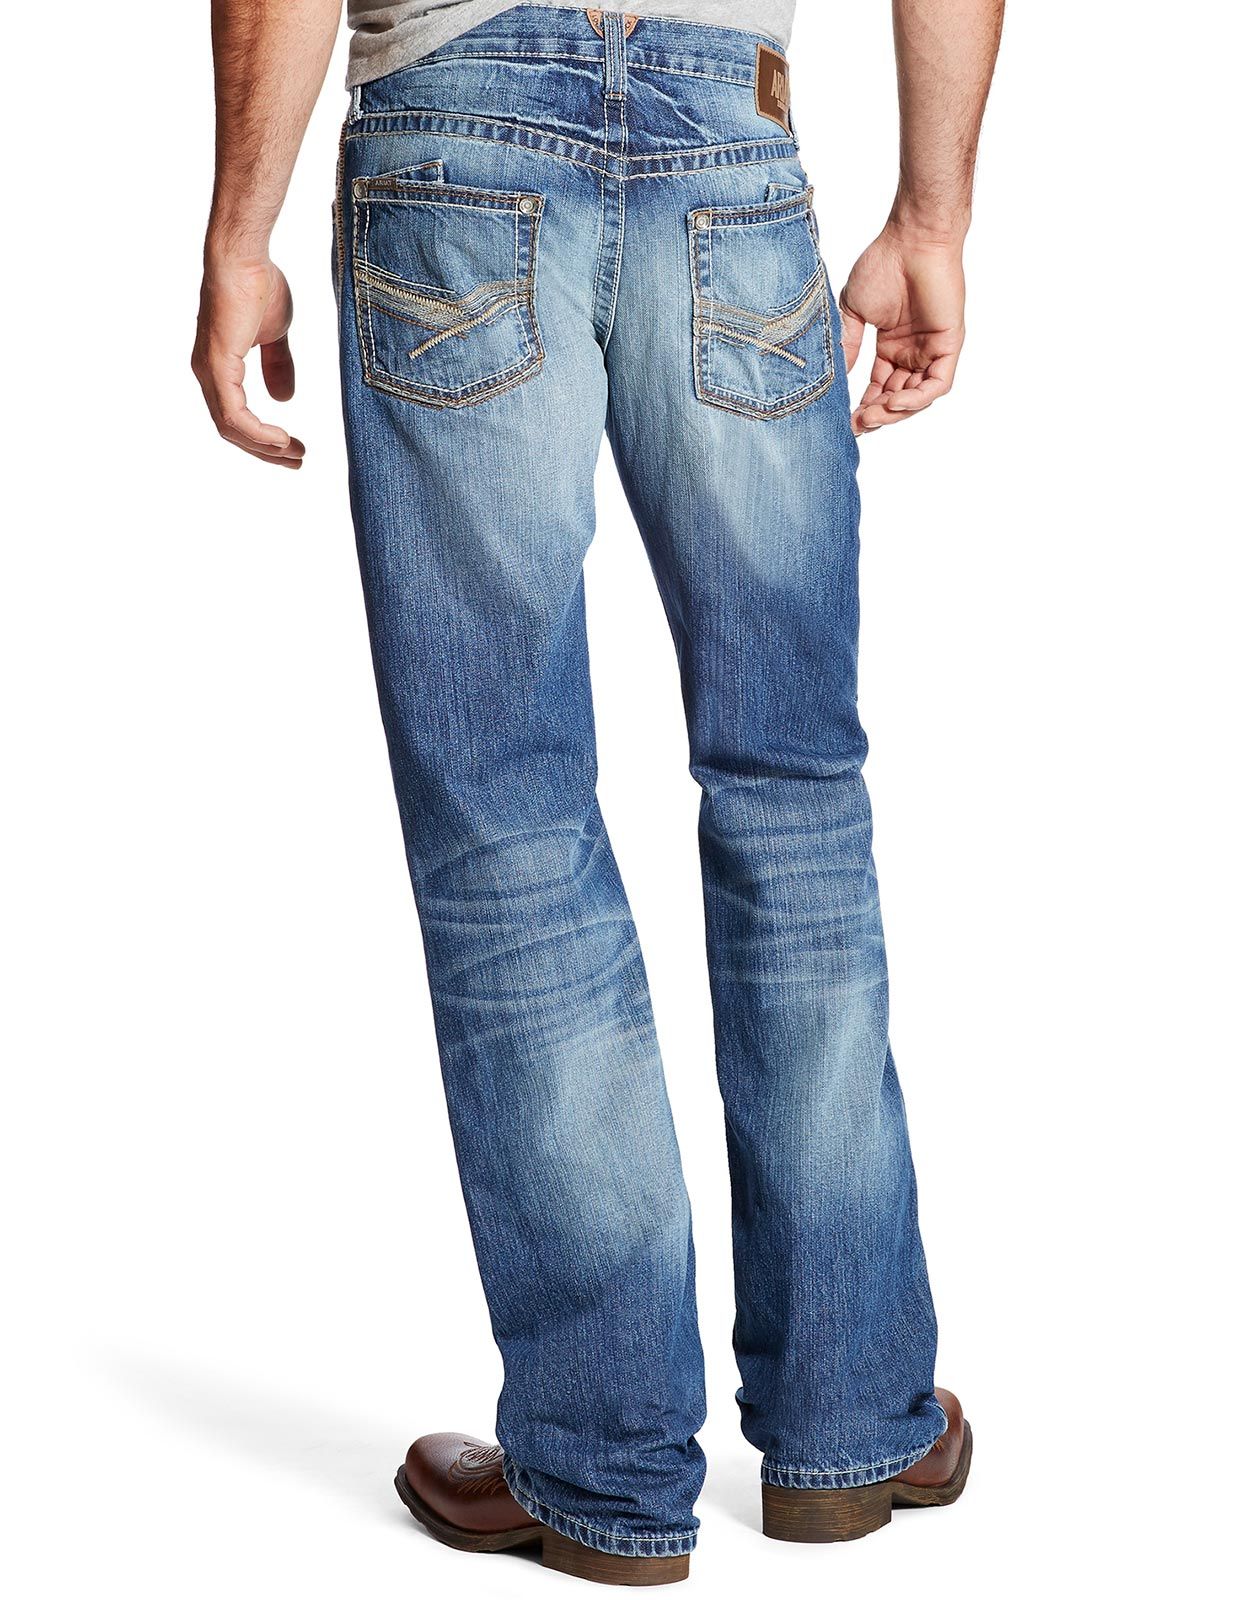Jeans: (324, 13, 943, 1547)
